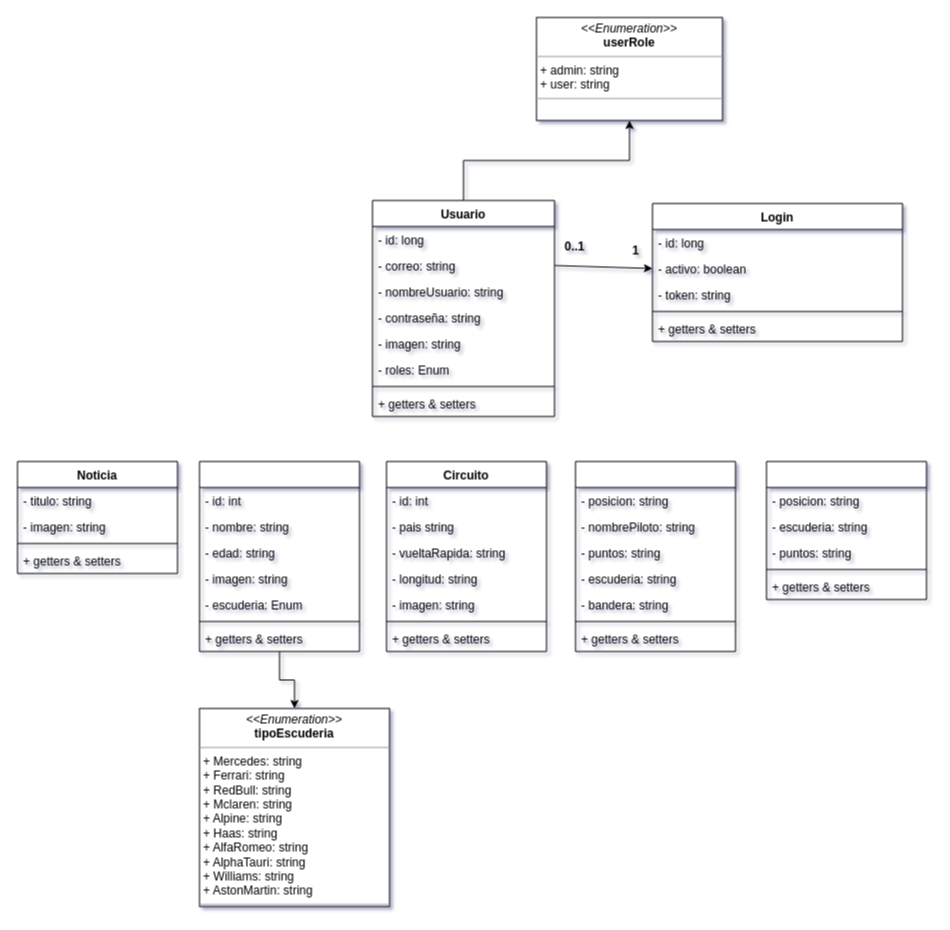
Image size: 950x930. Some labels were removed from this diagram. Here are the shapes that lost their labels. From the top down, the box of each, then its label:
(766, 460, 926, 600): ClasificacionEscuderia
(198, 460, 360, 652): Piloto
(574, 460, 736, 652): ClasificacionPiloto
